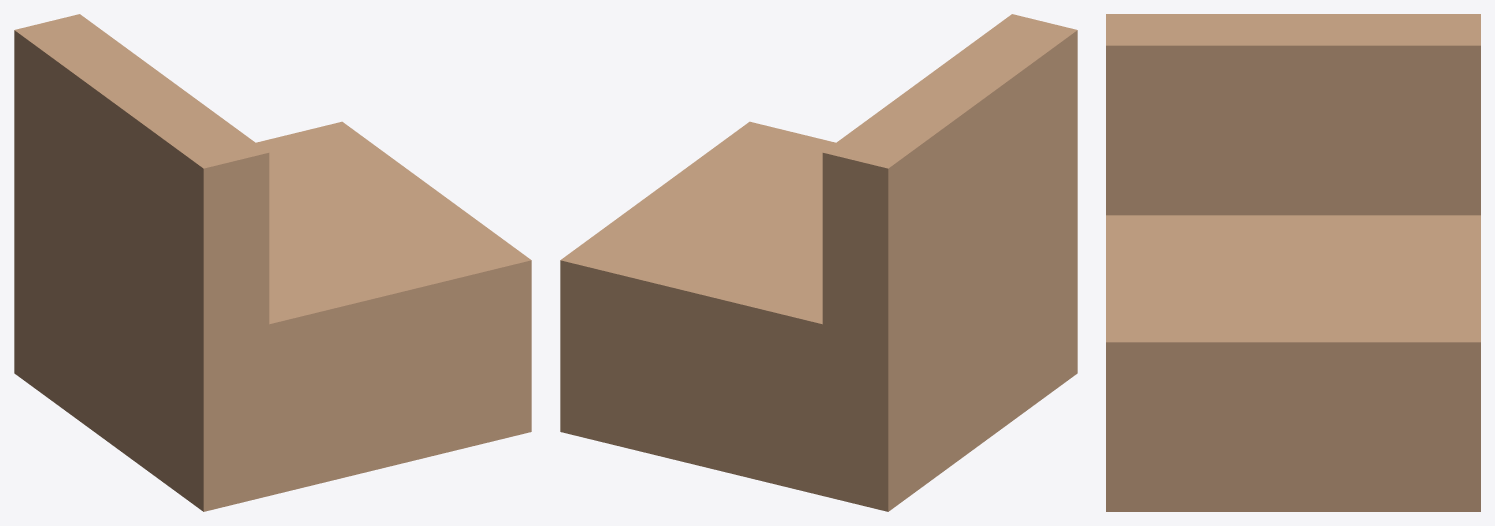
The model's file is couch.dae.
3 views of the same model, side by side, from view 1: azimuth 30°, elevation 25°; view 2: azimuth 150°, elevation 25°; view 3: azimuth 270°, elevation 25° (orthographic).
Parts seen in each view (by area): view 1: Cube_001; view 2: Cube_001; view 3: Cube_001.
Part boxes in pixels (bbox=[...]): Cube_001: bbox=[14, 14, 531, 511]; Cube_001: bbox=[560, 14, 1077, 511]; Cube_001: bbox=[1106, 14, 1480, 511].
Size of the model in its own units: 2 by 2 by 2.
